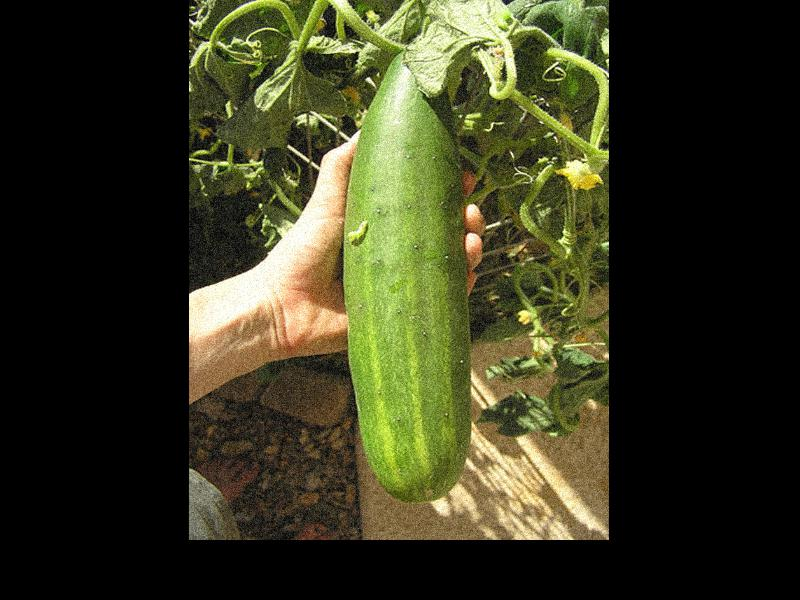Cucumber: (343, 45, 472, 503)
